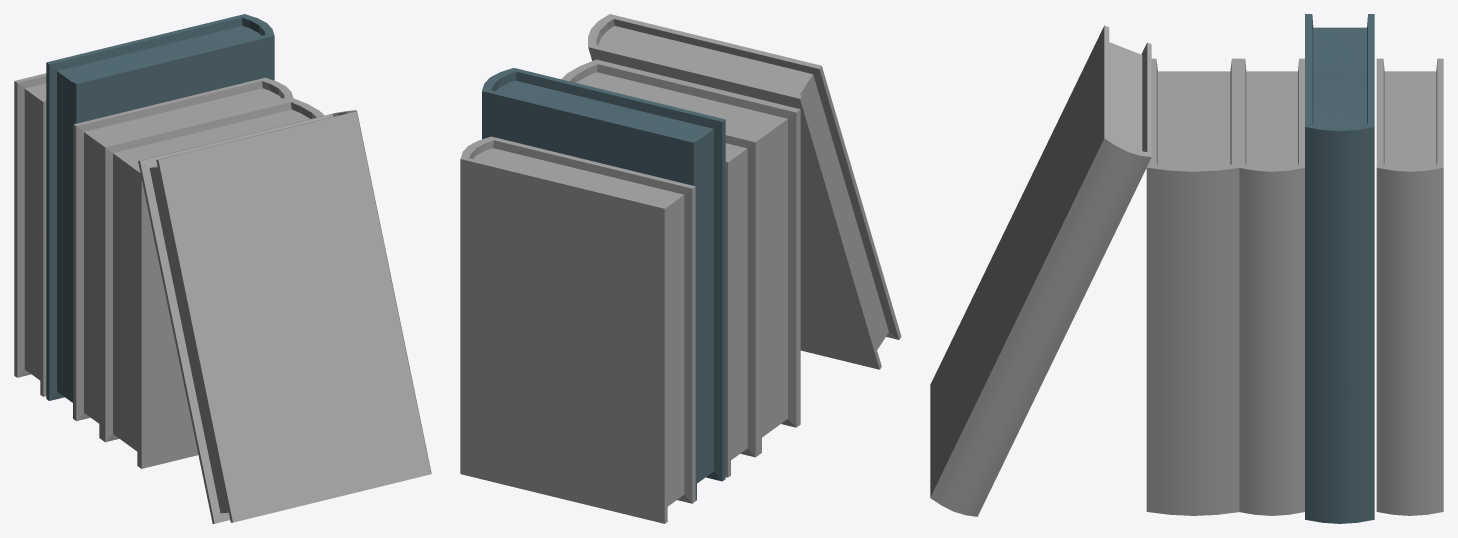
File: Books1.fbx
The picture shows the model from 3 angles, left to right: view 1: azimuth 30°, elevation 25°; view 2: azimuth 150°, elevation 25°; view 3: azimuth 270°, elevation 25°; orthographic projection. The views are drawn at different scales.
Visible parts, largest first — view 1: Book_04, Book_03, Book_02, Book1, Book; view 2: Book, Book_04, Book_02, Book_03, Book1; view 3: Book_04, Book_03, Book_02, Book, Book1.
Boxes of the visible parts, x1,y1,x2,y2 form: Book_04: (138, 110, 431, 523); Book_03: (101, 98, 324, 468); Book_02: (46, 14, 274, 418); Book1: (73, 77, 293, 438); Book: (14, 73, 46, 396); Book: (460, 136, 695, 523); Book_04: (588, 14, 901, 369); Book_02: (482, 68, 725, 500); Book_03: (561, 59, 800, 455); Book1: (725, 133, 757, 477); Book_04: (930, 25, 1151, 516); Book_03: (1146, 58, 1240, 515); Book_02: (1305, 14, 1374, 523); Book: (1376, 58, 1443, 515); Book1: (1238, 58, 1304, 515).
Bounding box in the file's own units: 5.65 × 8.67 × 10.27.
